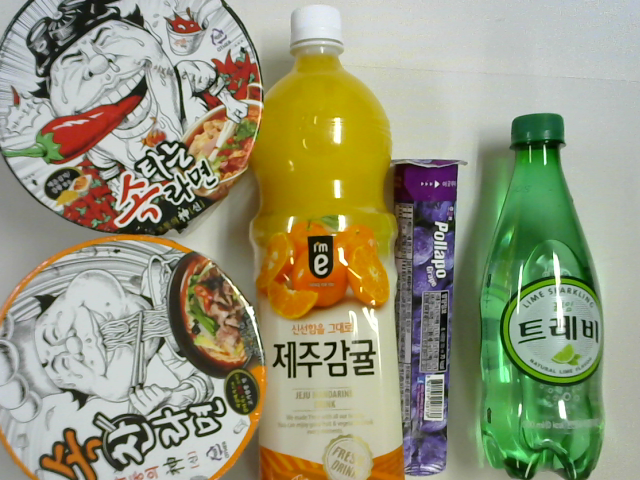HeJangsock: (1, 1, 266, 234)
Hejangchan: (1, 231, 268, 480)
Jeju_Tangerine_1.5L: (242, 4, 409, 479)
Polapo_Grape: (390, 160, 470, 480)
Treviraim_500ml: (474, 112, 608, 480)
